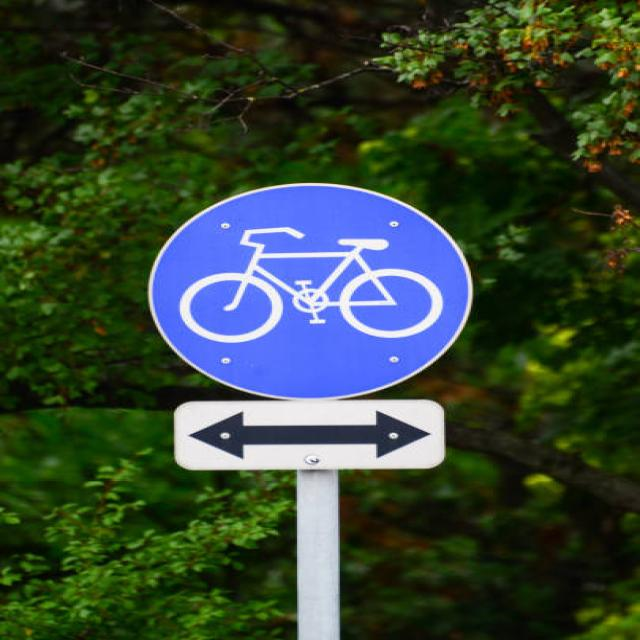bicycle: (109, 180, 528, 406)
